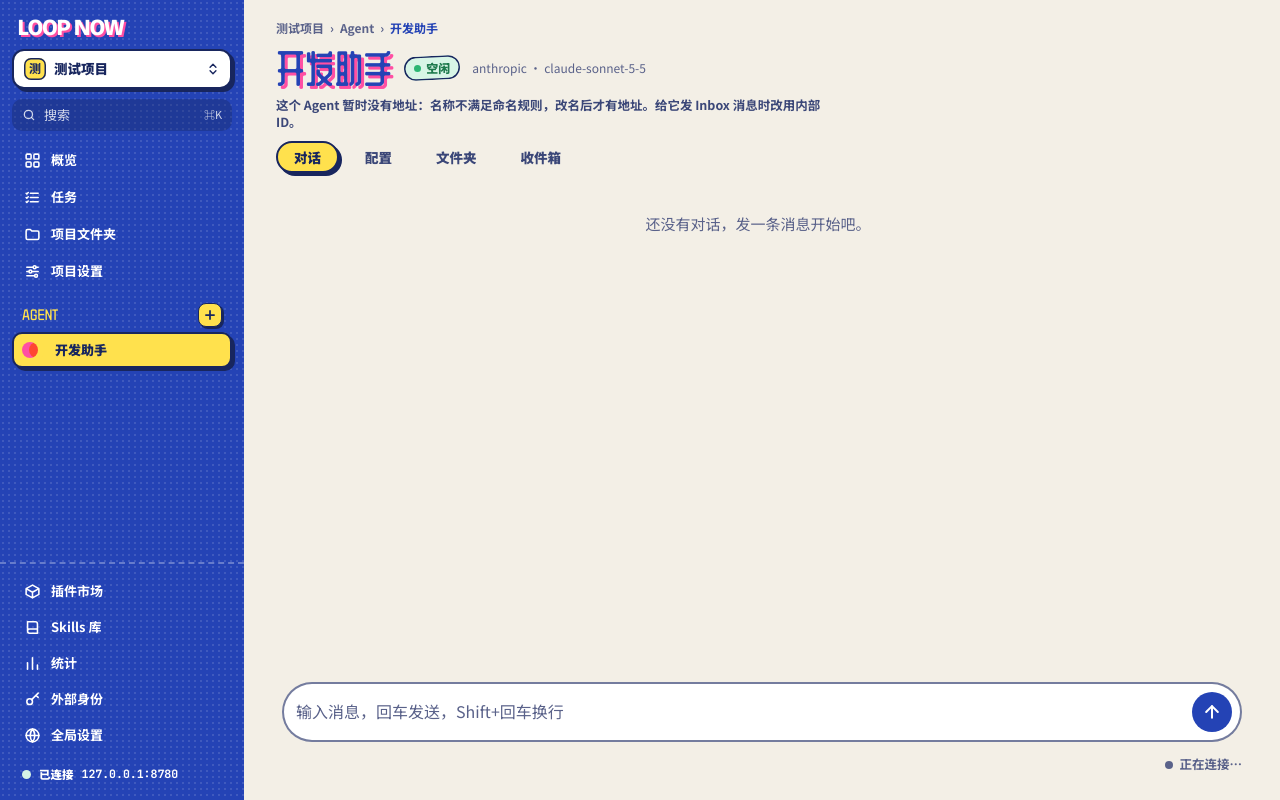
Test case: 对话里的 / 命令 › 被插件认领的命令：插件的回复排成一行说明，不算发出的消息，输入框清空
Expected: the element showing "还没有对话，发一条消息开始吧。" is shown, [646,215,870,233]
Type "/webhook status" into the text box labelled "消息" at {"x": 738, "y": 712}, box [292,692,1184,732]
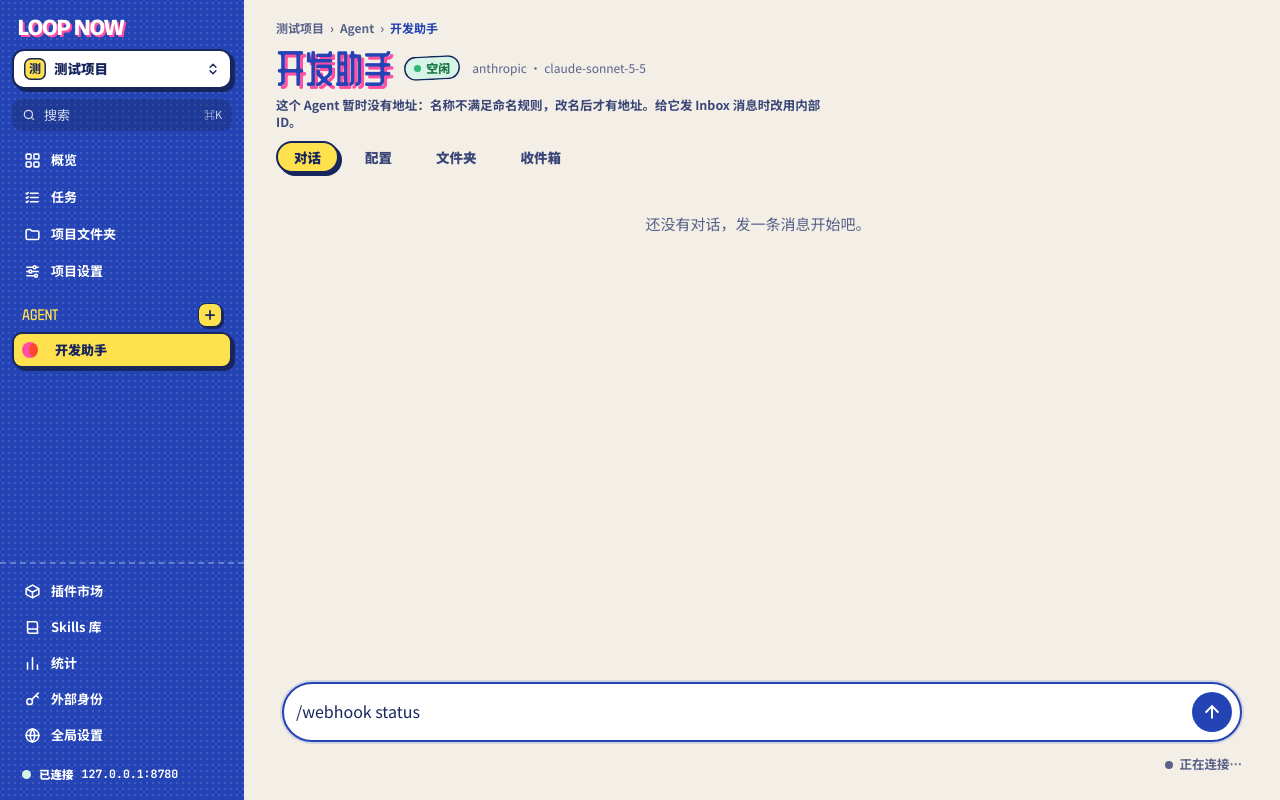
Click the button named "发送" at {"x": 1212, "y": 712}, box [1192,692,1232,732]
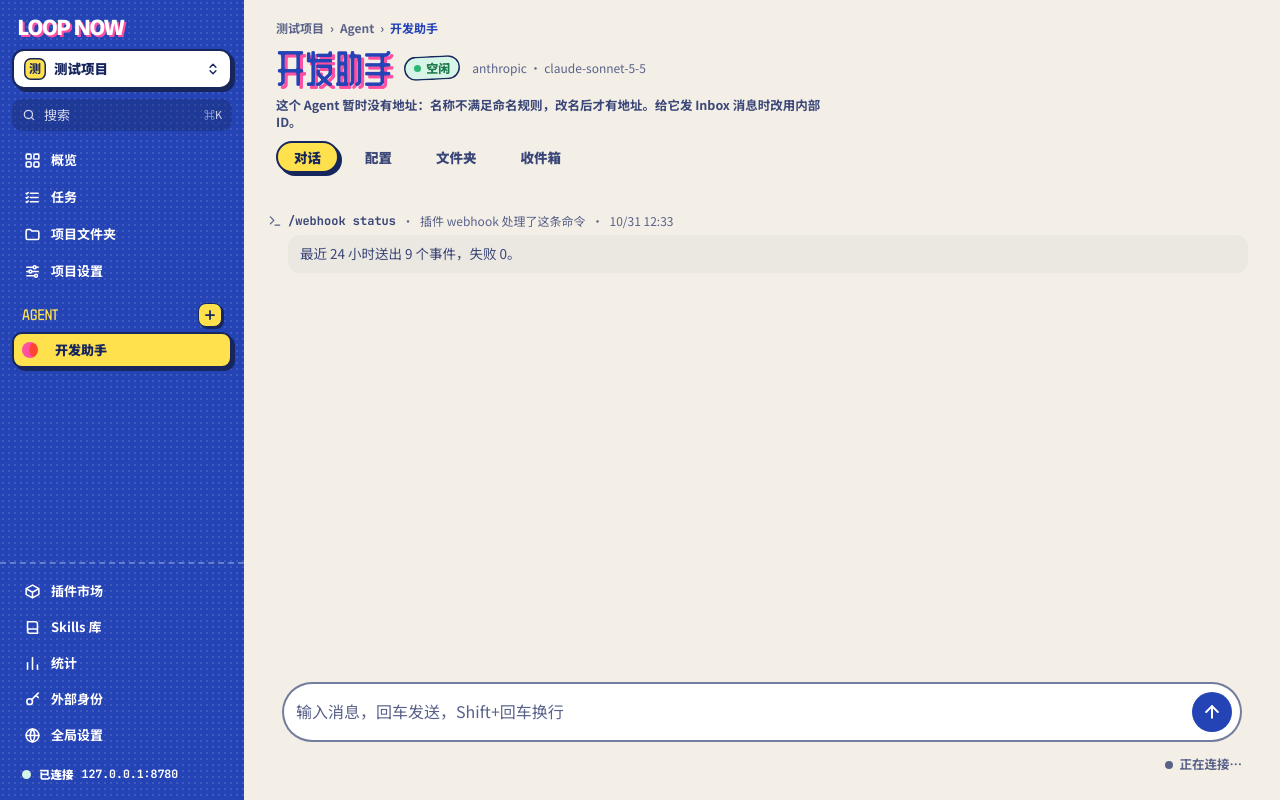
Expected: the element that starts with "/webhook status" is shown, [288,213,396,229]
Expected: the element that starts with "/webhook status" shows "插件 webhook 处理了这条命令", [420,214,585,228]
Expected: the element that starts with "/webhook status" shows "最近 24 小时送出 9 个事件，失败 0。", [300,245,521,262]
